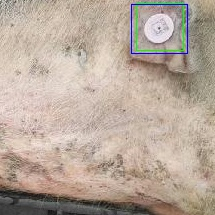text: (136, 3, 183, 50)
